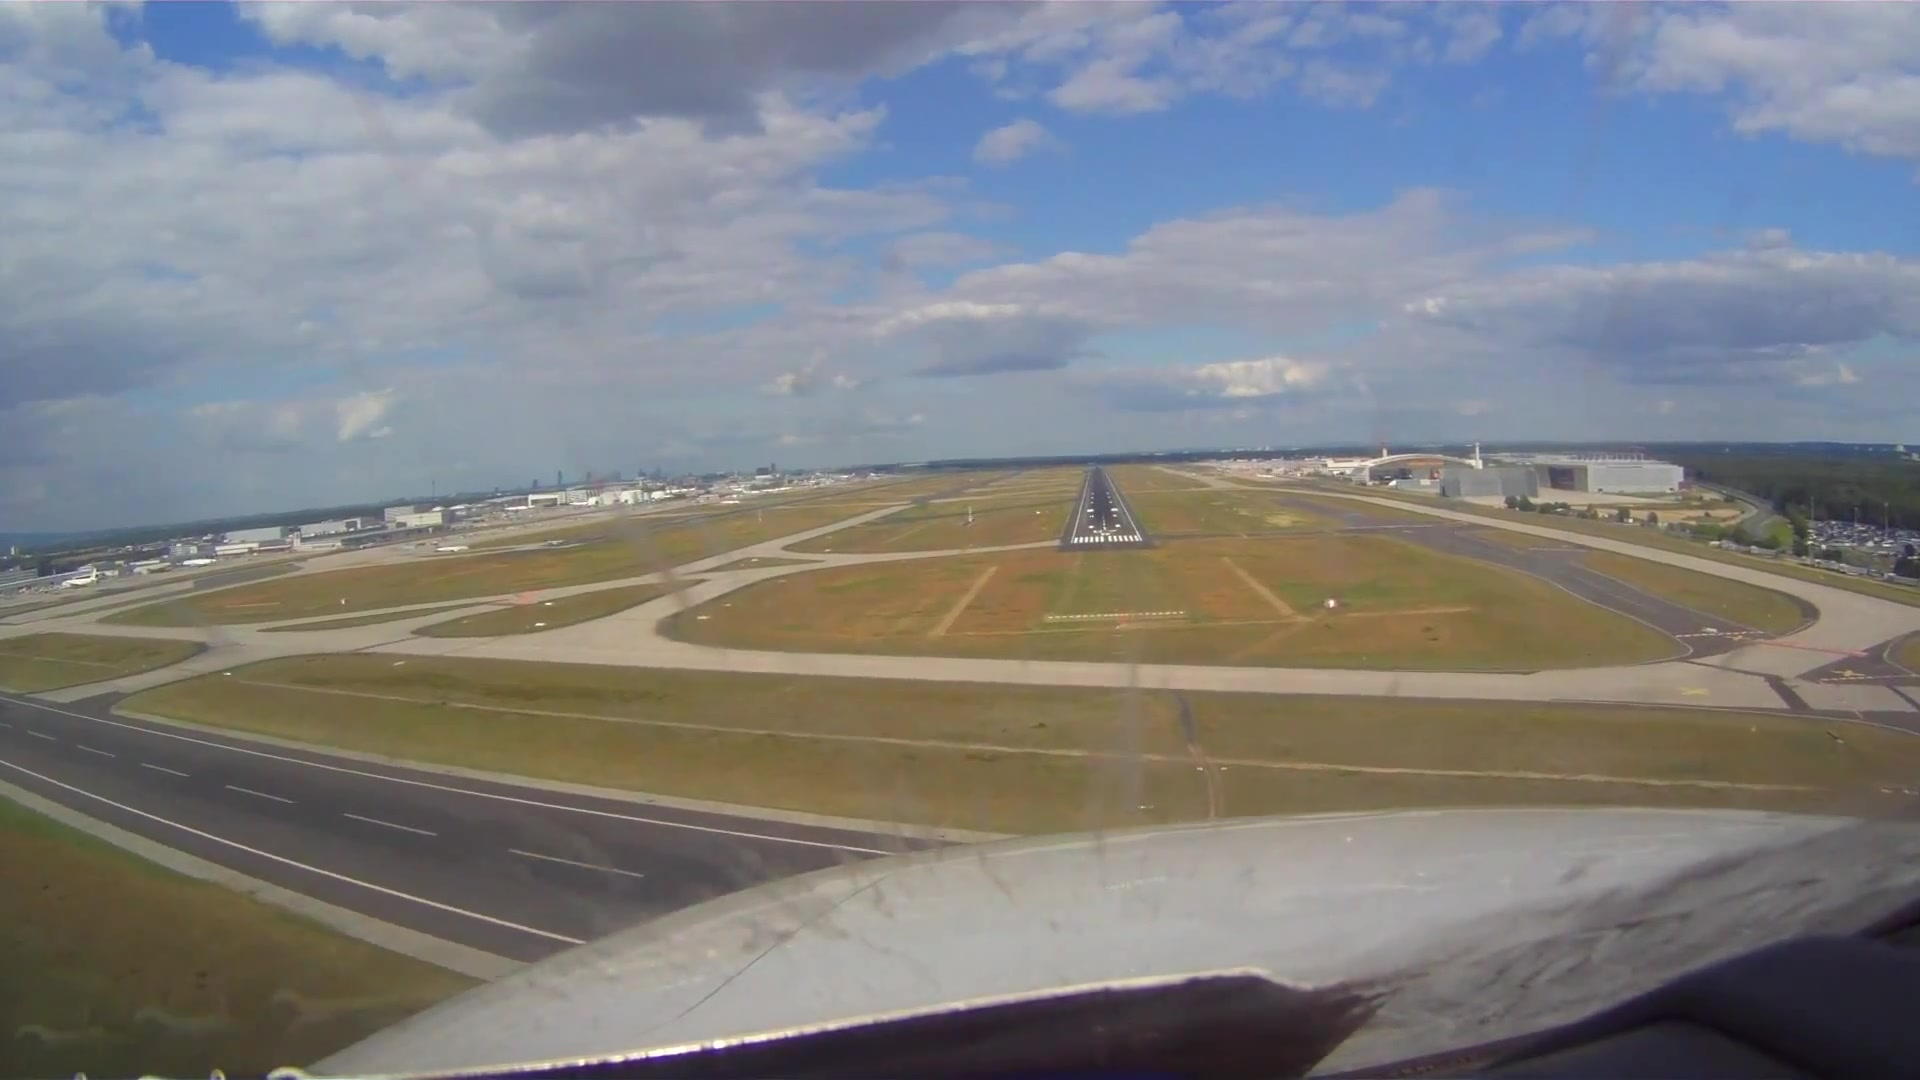entrance: (1071, 531, 1141, 543)
runway: (1062, 465, 1153, 551)
